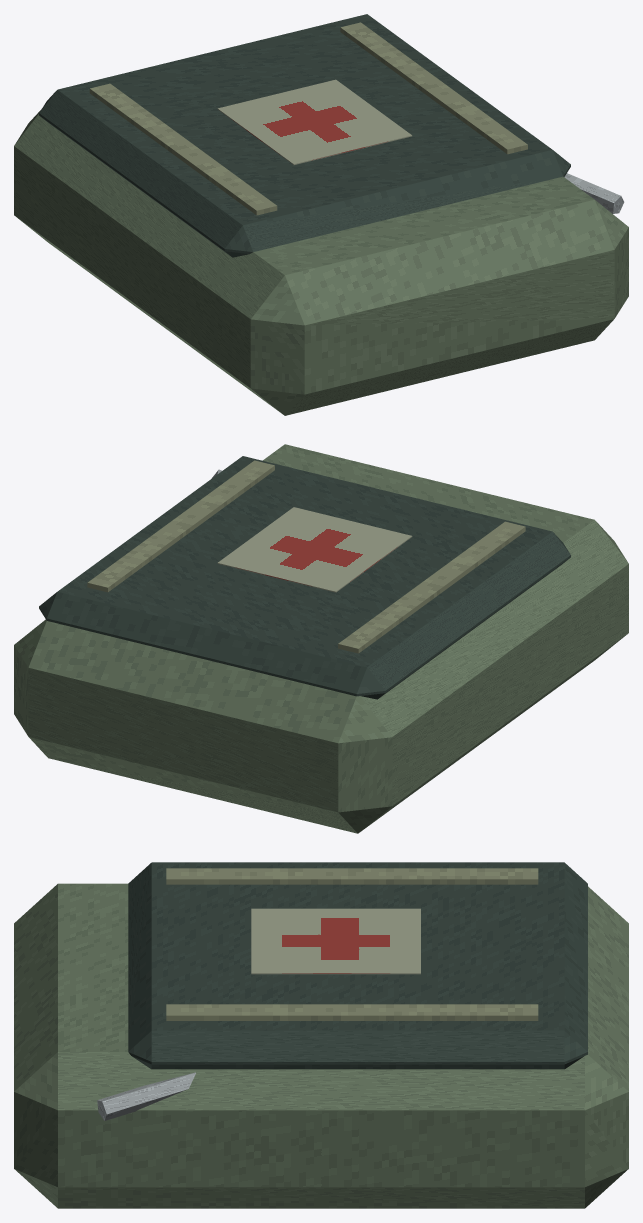
File: ifak_pouch.glb
3 views of the same model, one above another, from view 1: azimuth 30°, elevation 25°; view 2: azimuth 150°, elevation 25°; view 3: azimuth 270°, elevation 25° (orthographic). The views are drawn at different scales.
Visible parts, largest first — view 1: block_trauma kit pouch, block_front flap, block_medical patch, block_webbing -0.059, block_webbing 0.051, block_zipper pull; view 2: block_trauma kit pouch, block_front flap, block_medical patch, block_webbing -0.059, block_webbing 0.051; view 3: block_trauma kit pouch, block_front flap, block_medical patch, block_webbing -0.059, block_webbing 0.051, block_zipper pull.
Part boxes in pixels (<box>): block_trauma kit pouch: <box>14,110,628,415</box>; block_front flap: <box>39,14,570,257</box>; block_medical patch: <box>217,79,412,164</box>; block_webbing -0.059: <box>89,83,277,215</box>; block_webbing 0.051: <box>340,22,527,154</box>; block_zipper pull: <box>564,173,624,213</box>; block_trauma kit pouch: <box>14,444,628,833</box>; block_front flap: <box>39,456,570,699</box>; block_medical patch: <box>217,507,412,592</box>; block_webbing -0.059: <box>338,521,525,653</box>; block_webbing 0.051: <box>87,460,274,592</box>; block_trauma kit pouch: <box>14,883,628,1208</box>; block_front flap: <box>128,862,587,1069</box>; block_medical patch: <box>251,908,420,974</box>; block_webbing -0.059: <box>166,868,538,884</box>; block_webbing 0.051: <box>166,1004,538,1020</box>; block_zipper pull: <box>97,1072,195,1120</box>.
Bounding box in the file's own units: 0.1736 × 0.0691 × 0.21.
1 material, 1 textured.
